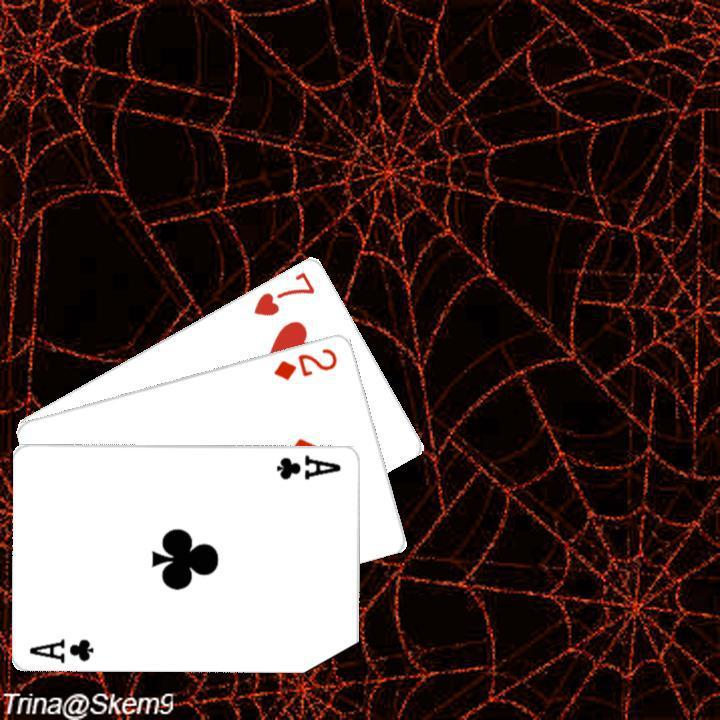2: (269, 343, 340, 382)
7: (249, 266, 318, 318)
A: (26, 633, 97, 664), (273, 450, 343, 481)
